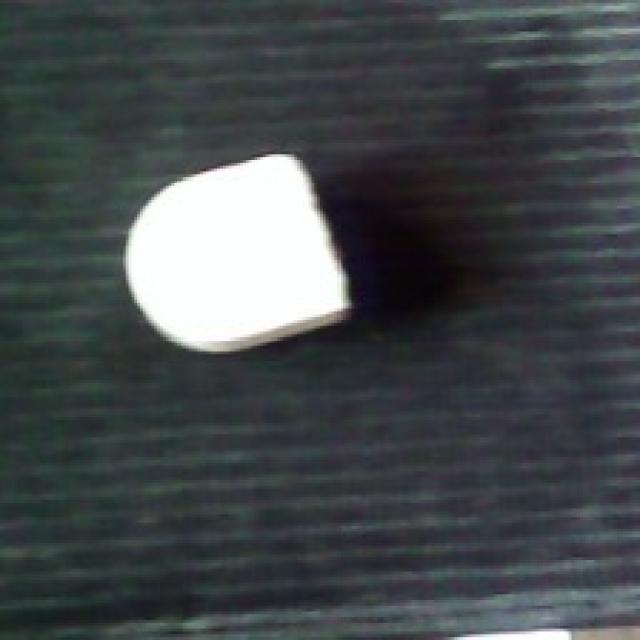defected: (120, 151, 360, 363)
